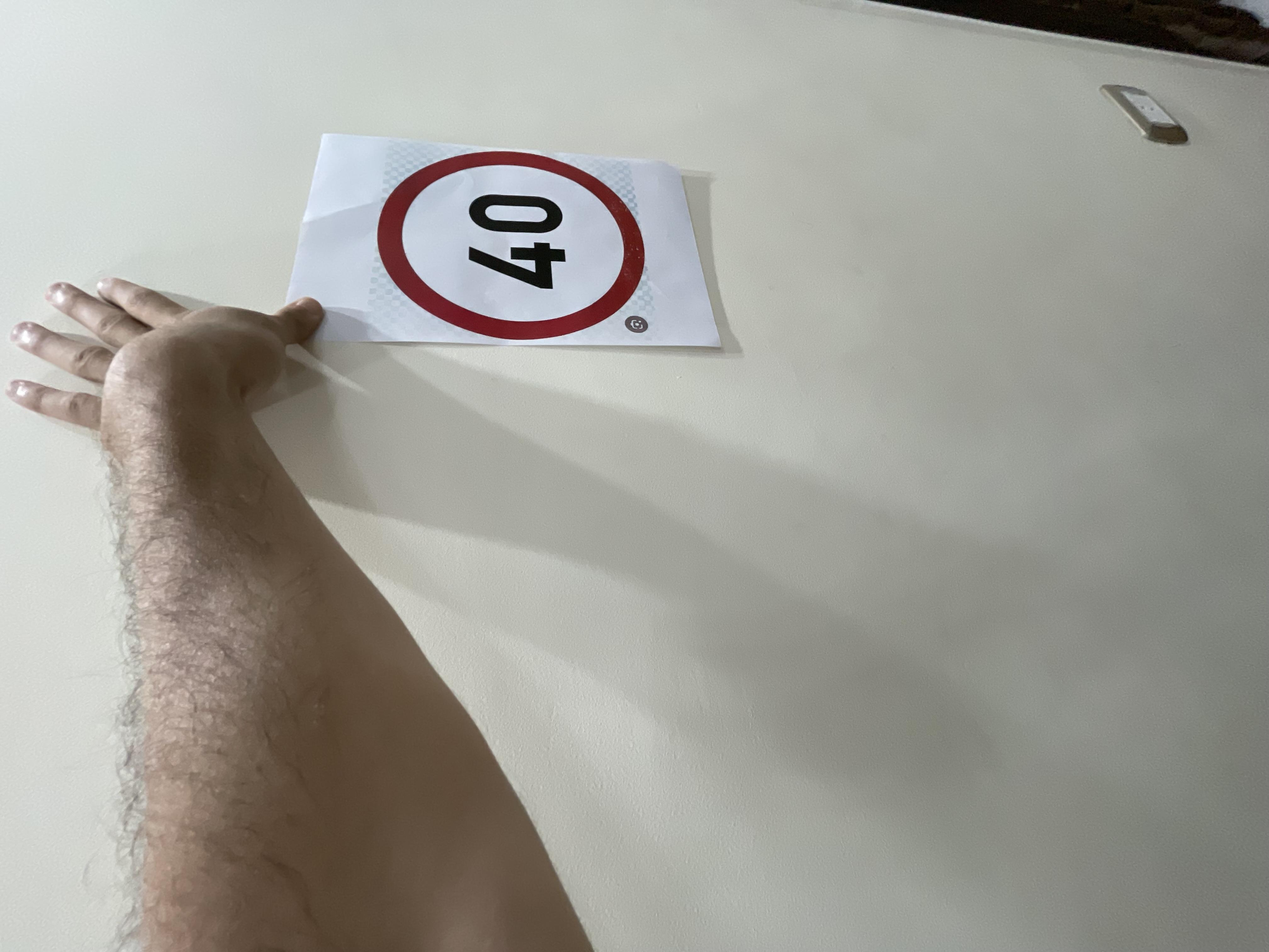40-Speed: (821, 282, 1065, 482)
